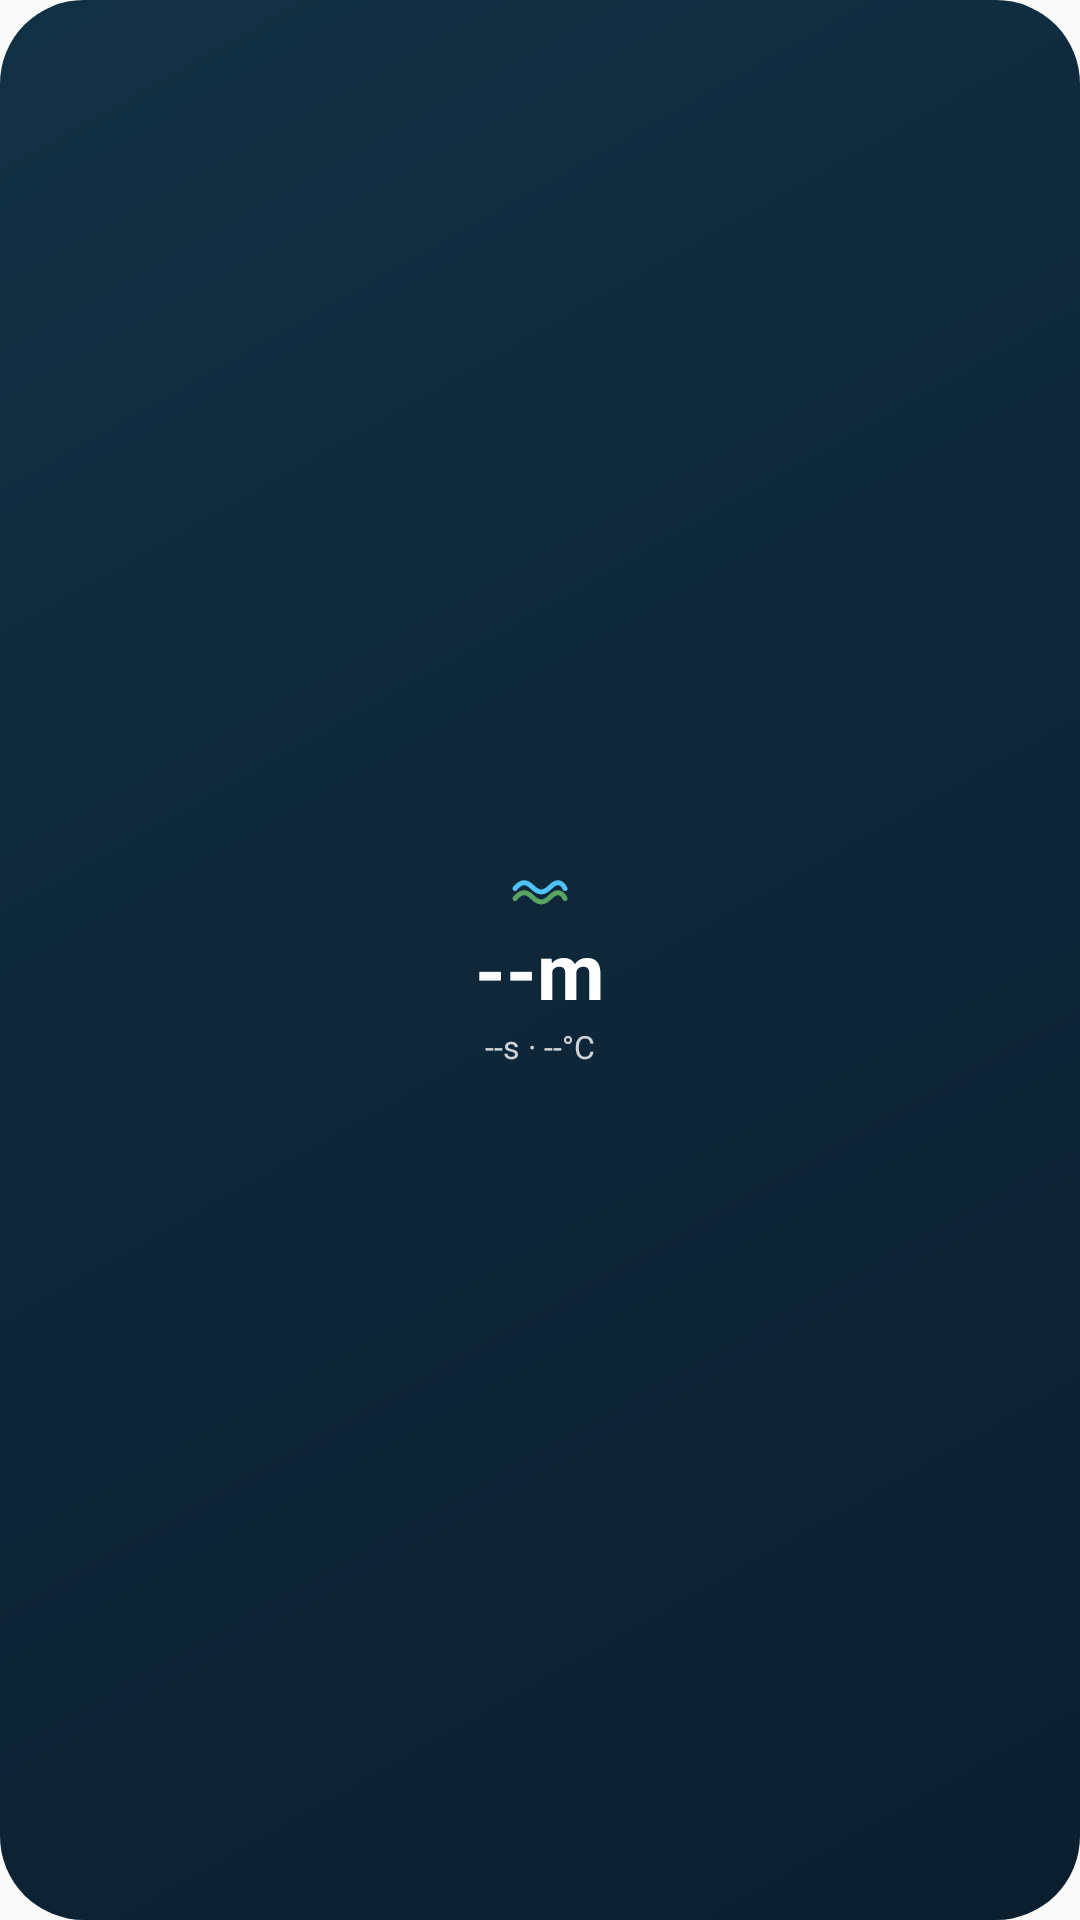

Icon click points for this 1080x1920 phone screenshot, format [x,y]:
widget wave: [540,892]
